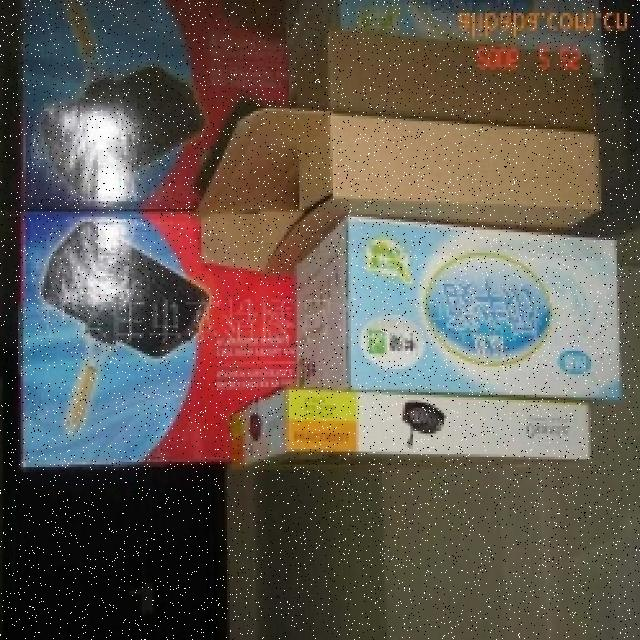box: (25, 205, 286, 478), (214, 96, 612, 269), (297, 224, 628, 399), (236, 392, 602, 479)
